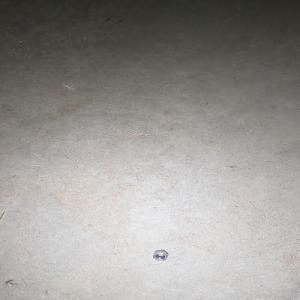Nut: (152, 249, 169, 260)
